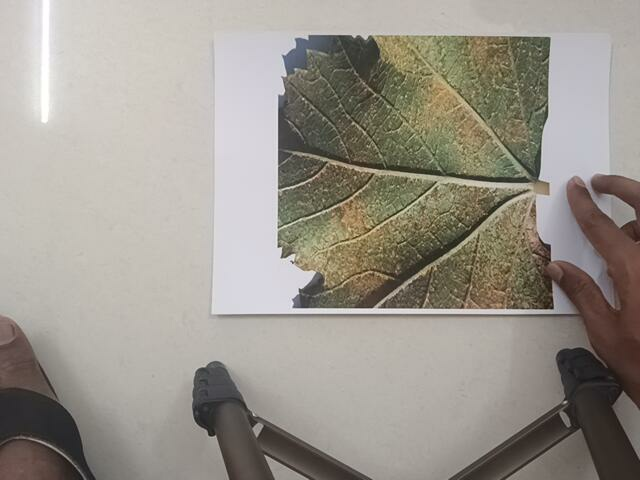Grape_Rust_Fungus: (275, 30, 554, 311)
